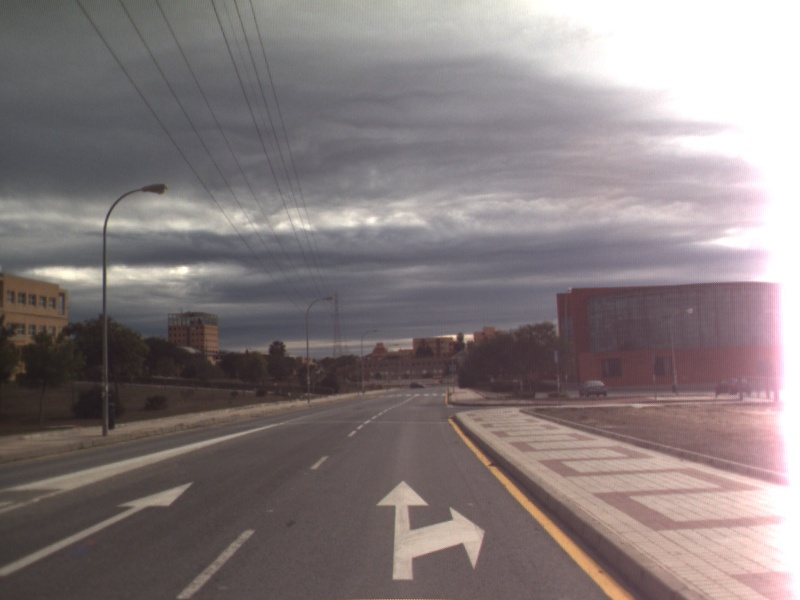STRAIGHT: (1, 479, 196, 578)
STRAIGHT_RIGHT: (374, 478, 487, 582)
